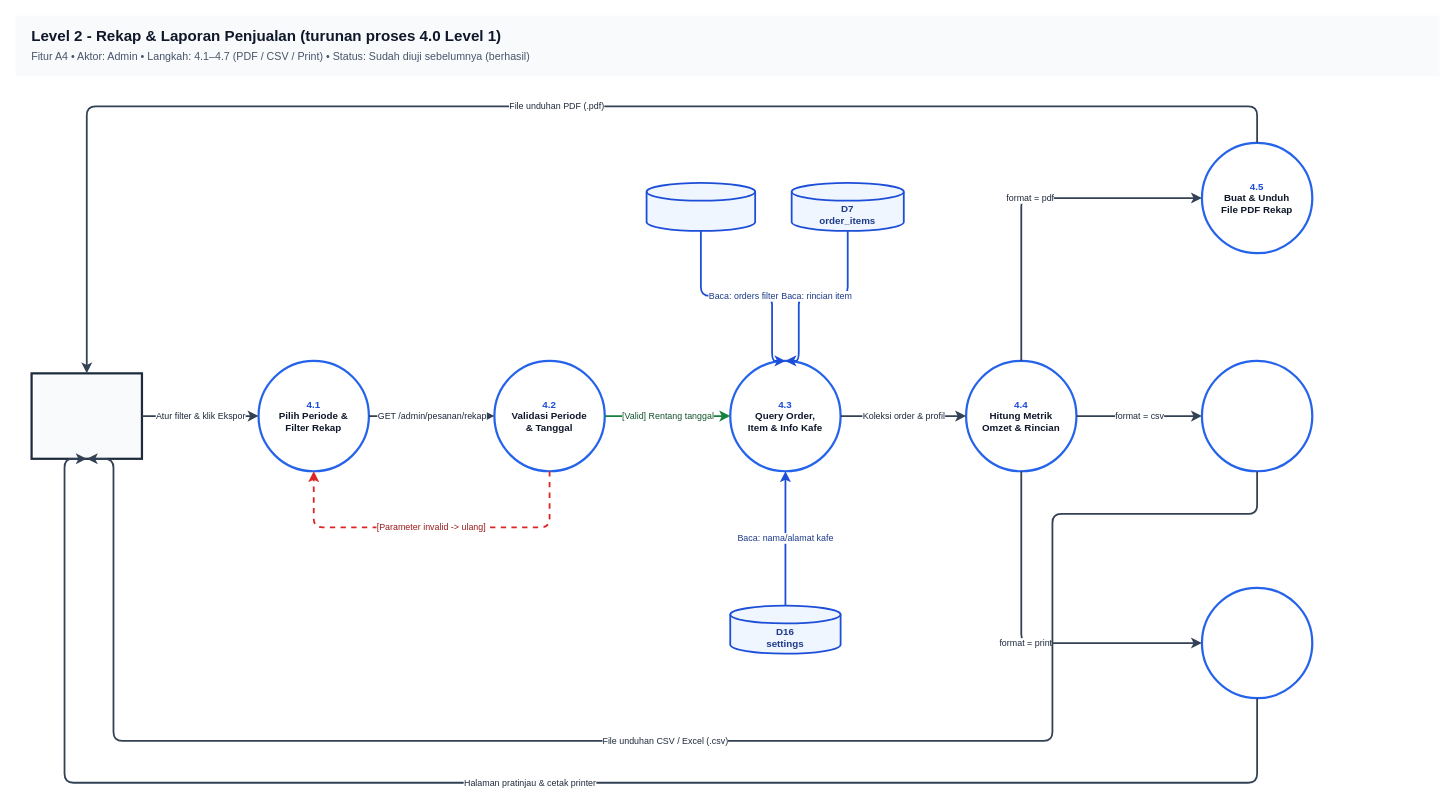
Some shapes in this 1454 by 805 pixel diagram are drawn without their labels. Here are the shapes that lost their labels. From the top down, the box of each, then its label:
(645, 182, 756, 231): D6 orders
(30, 372, 143, 460): Admin Terautentikasi
(1200, 359, 1313, 472): 4.6 Susun & Unduh File CSV Excel
(1200, 586, 1313, 699): 4.7 Render Halaman Cetak Laporan
